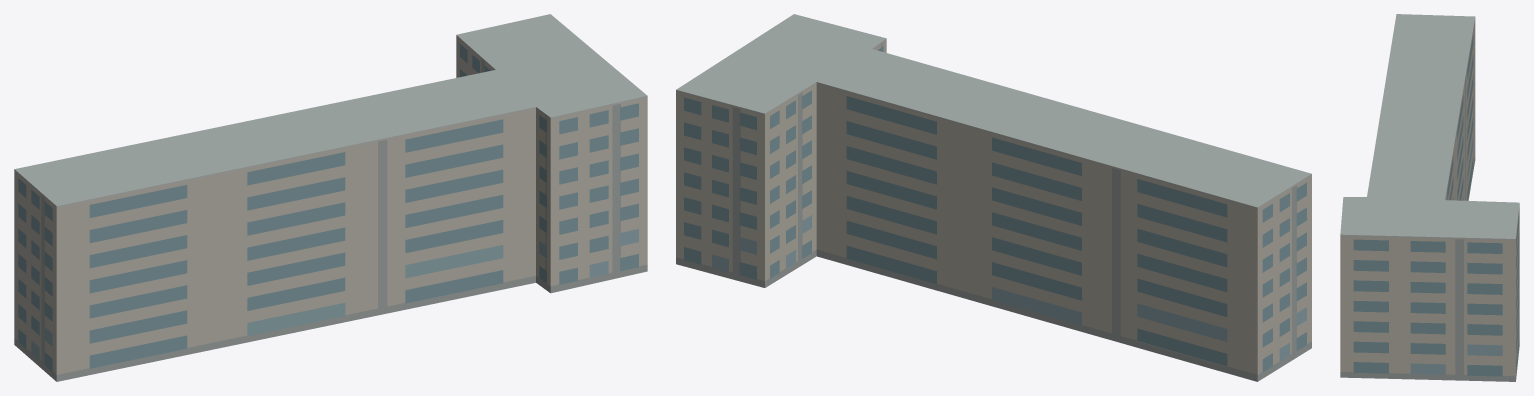
The model's file is residential-1ba33b05-559f-4cf9-996e-91d165f26f18.glb.
3 renders of one model, left to right at view 1: azimuth 30°, elevation 25°; view 2: azimuth 150°, elevation 25°; view 3: azimuth 270°, elevation 25°, orthographic. The views are drawn at different scales.
Parts seen in each view (by area): view 1: residential-1ba33b05-559f-4cf9-996e-91d165f26f18.tmp; view 2: residential-1ba33b05-559f-4cf9-996e-91d165f26f18.tmp; view 3: residential-1ba33b05-559f-4cf9-996e-91d165f26f18.tmp.
Part boxes in pixels (bbox=[...]): residential-1ba33b05-559f-4cf9-996e-91d165f26f18.tmp: bbox=[14, 14, 647, 381]; residential-1ba33b05-559f-4cf9-996e-91d165f26f18.tmp: bbox=[676, 14, 1311, 381]; residential-1ba33b05-559f-4cf9-996e-91d165f26f18.tmp: bbox=[1340, 14, 1519, 381].
Bounding box in the file's own units: 74.31 × 22 × 25.03.
